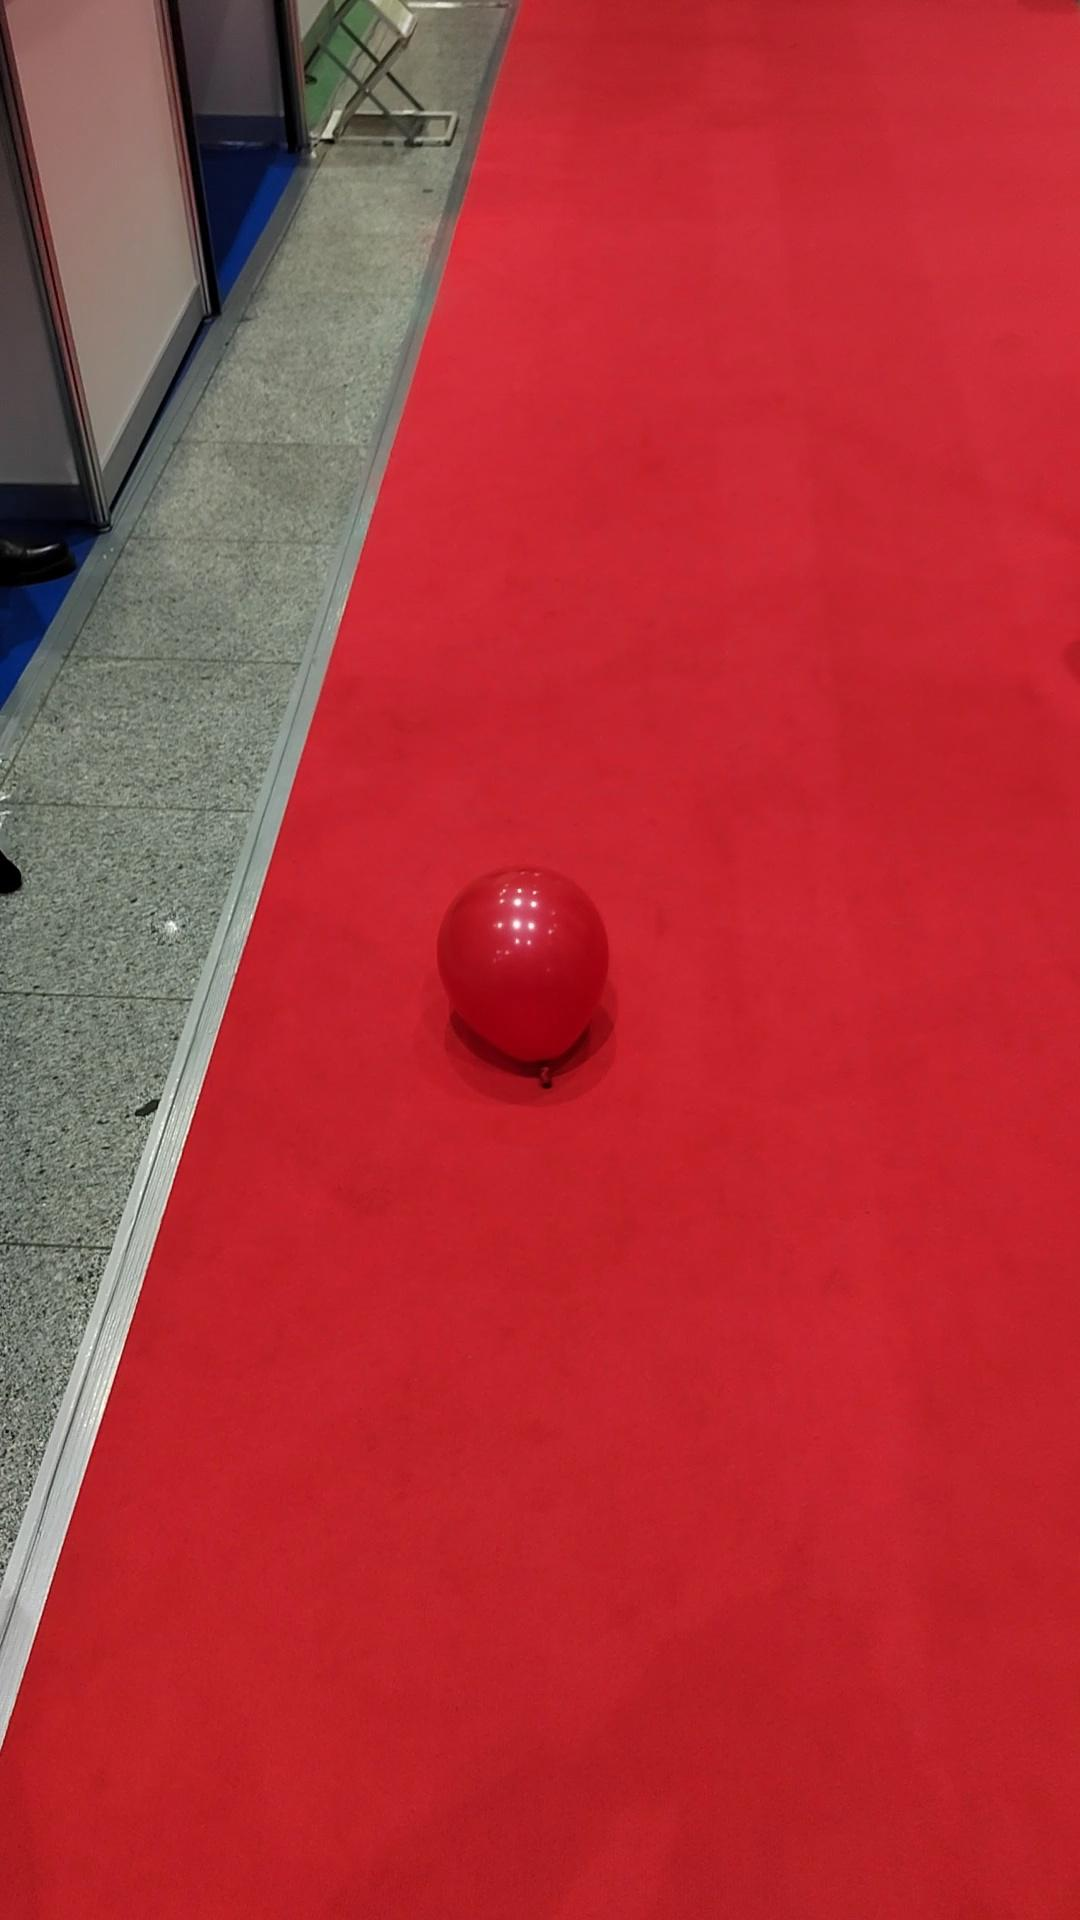red: (430, 870, 612, 1071)
